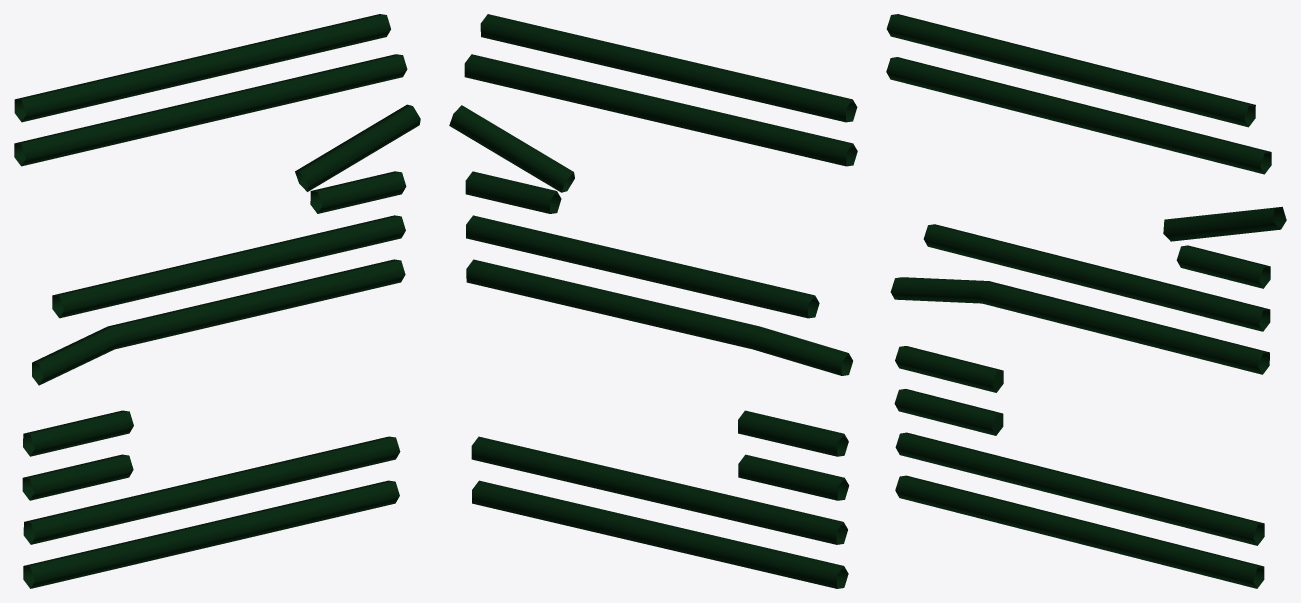
The model's file is 2_Emi.fbx.
3 views of the same model, side by side, from view 1: azimuth 30°, elevation 25°; view 2: azimuth 150°, elevation 25°; view 3: azimuth 330°, elevation 25° (orthographic). The views are drawn at different scales.
Parts seen in each view (by area): view 1: Object006; view 2: Object006; view 3: Object006.
Boxes of the visible parts, left/top/right/bottom form: Object006: left=14, top=14, right=420, bottom=588; Object006: left=449, top=14, right=857, bottom=588; Object006: left=886, top=14, right=1286, bottom=588.
Bounding box in the file's own units: 341 × 404 × 26.81.
